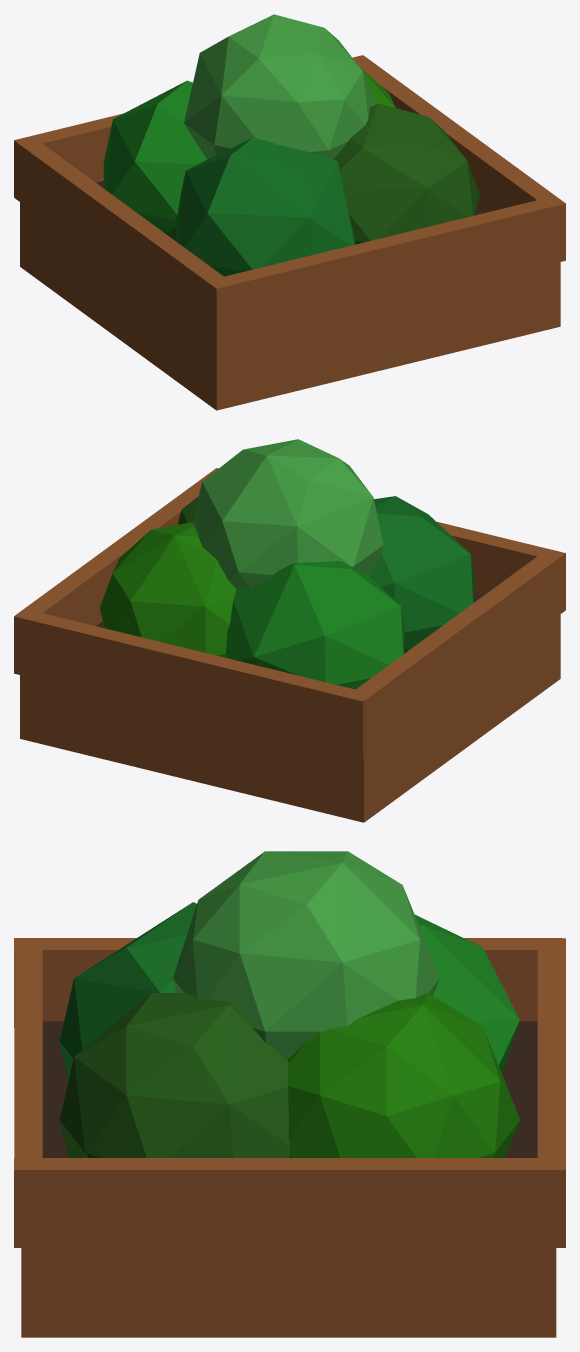
The model's file is arbusto.fbx.
The picture shows the model from 3 angles, top to bottom: view 1: azimuth 30°, elevation 25°; view 2: azimuth 150°, elevation 25°; view 3: azimuth 270°, elevation 25°; orthographic projection. The views are drawn at different scales.
Parts seen in each view (by area): view 1: Cube, Cube.001, Icosphere.004, Icosphere.003, Cube.003, Icosphere.002, Icosphere, Cube.004, Cube.002; view 2: Cube, Cube.002, Icosphere.004, Icosphere, Cube.003, Icosphere.001, Icosphere.003, Cube.004, Cube.001; view 3: Cube, Cube.004, Icosphere.004, Icosphere.002, Icosphere.001, Icosphere.003, Cube.003, Cube.002, Cube.001, Icosphere.
Part boxes in pixels (x1,y1,x2,y2): Cube: (20,180,560,410); Cube.001: (207,196,565,341); Icosphere.004: (184,14,375,159); Icosphere.003: (176,137,355,276); Cube.003: (15,137,234,345); Icosphere.002: (333,103,479,244); Icosphere: (103,80,206,241); Cube.004: (354,56,565,264); Cube.002: (14,55,372,197); Cube: (20,593,560,822); Cube.002: (14,609,364,758); Icosphere.004: (192,439,383,588); Icosphere: (226,561,404,689); Cube.003: (347,550,565,757); Icosphere.001: (99,522,235,657); Icosphere.003: (370,496,474,652); Cube.004: (15,468,217,625); Cube.001: (207,468,565,595); Cube: (21,1021,556,1337); Cube.004: (14,1158,562,1247); Icosphere.004: (173,851,439,1059); Icosphere.002: (59,993,289,1157); Icosphere.001: (288,993,520,1157); Icosphere.003: (59,902,196,1080); Cube.003: (14,938,562,1027); Cube.002: (537,938,565,1247); Cube.001: (14,938,42,1169); Icosphere: (415,914,519,1074).
Size of the model in its own units: 492 by 359 by 495.
